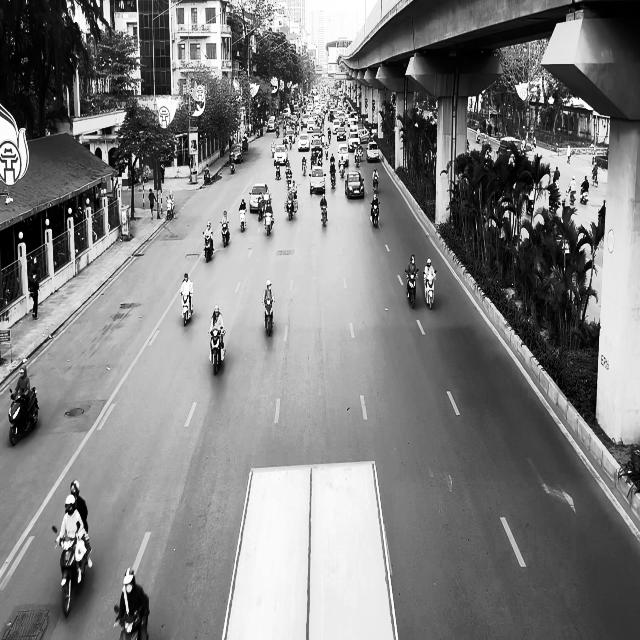car: (344, 170, 364, 198), (249, 183, 268, 212), (309, 166, 326, 194), (366, 141, 379, 161), (230, 143, 243, 163)
motorbike: (52, 524, 89, 618), (8, 386, 39, 446), (209, 328, 226, 374), (404, 267, 418, 309), (423, 269, 436, 309), (181, 287, 193, 326), (263, 300, 274, 336), (203, 232, 213, 262), (263, 210, 274, 234), (220, 222, 230, 247), (370, 200, 379, 227), (239, 206, 247, 232), (320, 204, 328, 226), (286, 198, 294, 220), (580, 184, 588, 204), (330, 168, 336, 188), (301, 157, 307, 175)
